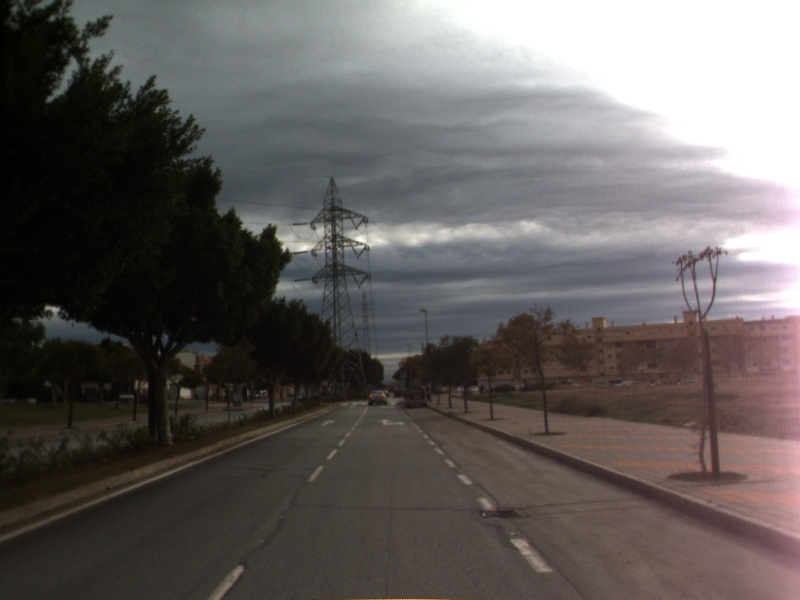STRAIGHT: (318, 417, 337, 428)
STRAIGHT_RIGHT: (377, 417, 407, 428)
